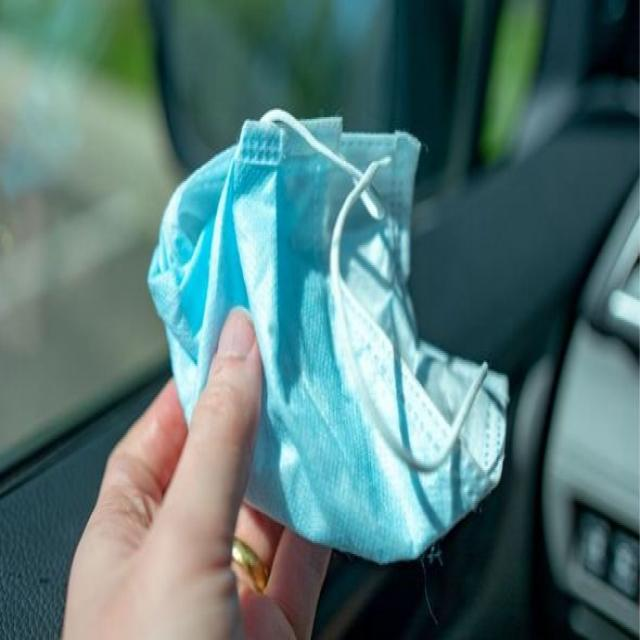non-organic waste: (143, 111, 508, 567)
